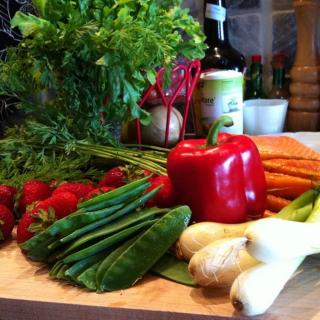Bell pepper: (167, 110, 268, 226)
